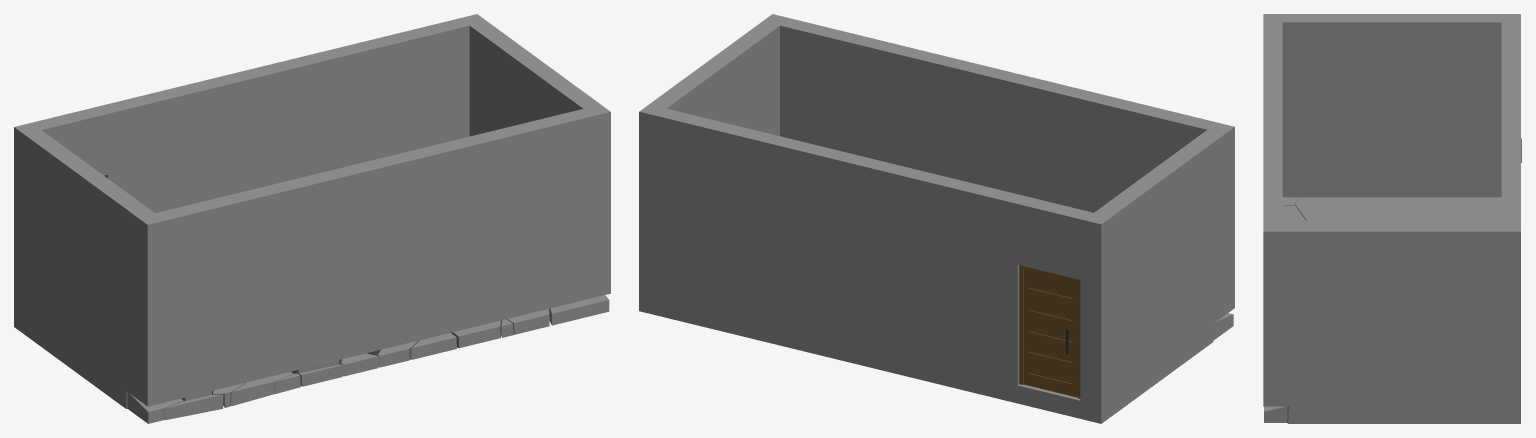
Rendered from MSH_Room_Double_Damaged_03.fbx.
The picture shows the model from 3 angles, left to right: view 1: azimuth 30°, elevation 25°; view 2: azimuth 150°, elevation 25°; view 3: azimuth 270°, elevation 25°; orthographic projection. The views are drawn at different scales.
Parts seen in each view (by area): view 1: MSH_Room_Double_Damaged_03; view 2: MSH_Room_Double_Damaged_03, MSH_Door_Single004, MSH_DoorFrame_Single004; view 3: MSH_Room_Double_Damaged_03.
Boxes of the visible parts, box(x1,y1,x2,y2) form: MSH_Room_Double_Damaged_03: box(14, 14, 610, 423); MSH_Room_Double_Damaged_03: box(639, 14, 1234, 423); MSH_Door_Single004: box(1024, 270, 1077, 397); MSH_DoorFrame_Single004: box(1019, 265, 1080, 398); MSH_Room_Double_Damaged_03: box(1263, 14, 1520, 423).
Bounding box in the file's own units: 315 × 132 × 158.
